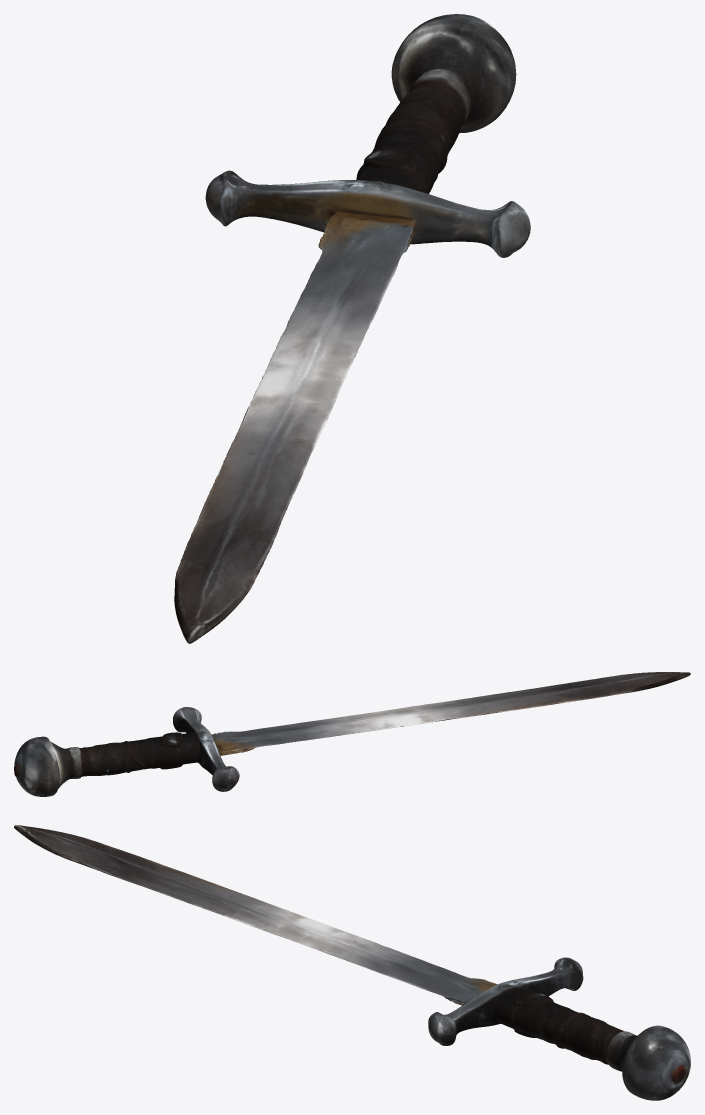
The model's file is prop_sword.glb.
The picture shows the model from 3 angles, top to bottom: view 1: azimuth 30°, elevation 25°; view 2: azimuth 150°, elevation 25°; view 3: azimuth 270°, elevation 25°; orthographic projection. The views are drawn at different scales.
Bounding box in the file's own units: 0.8834 × 0.1102 × 1.
Materials: 1 (1 with a texture image).
